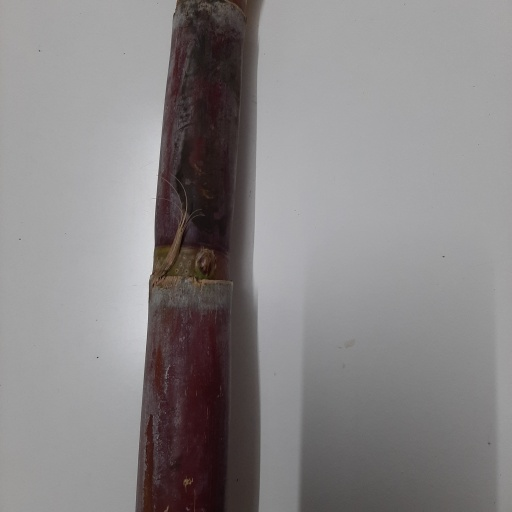Bud: (197, 250, 216, 277)
